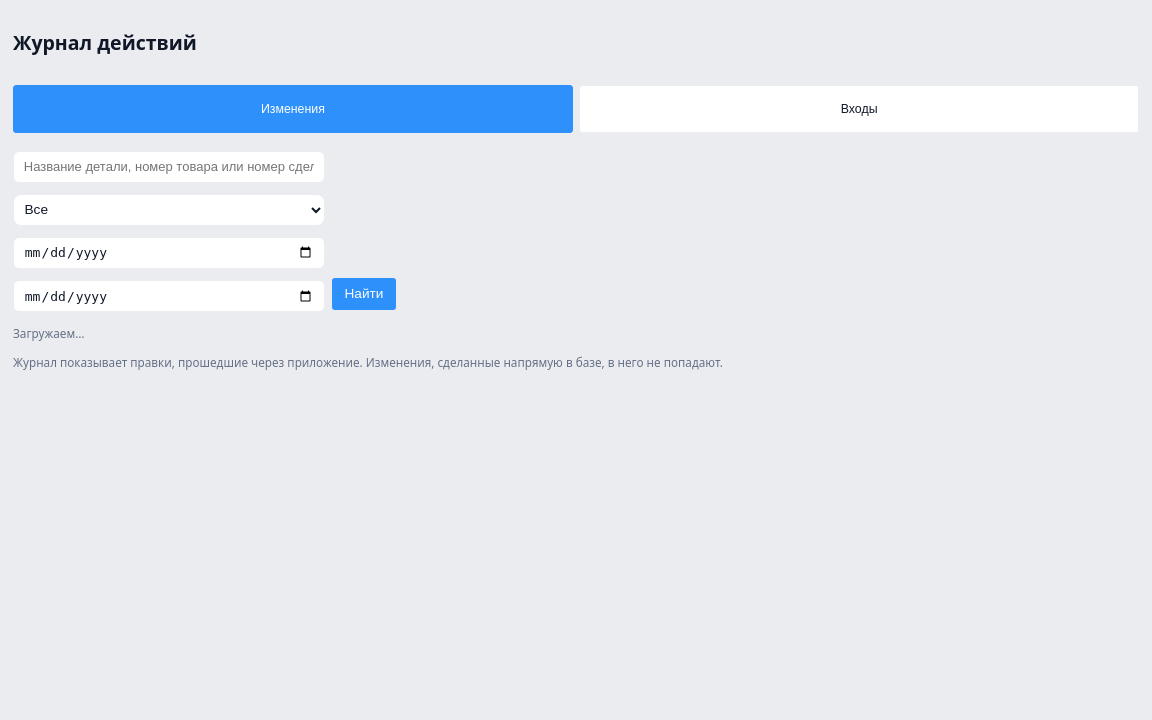
Test: журнал сессий › открывается вкладкой «Входы» на экране журнала
Click the button "Входы" at (859, 109), box [579,85,1139,133]
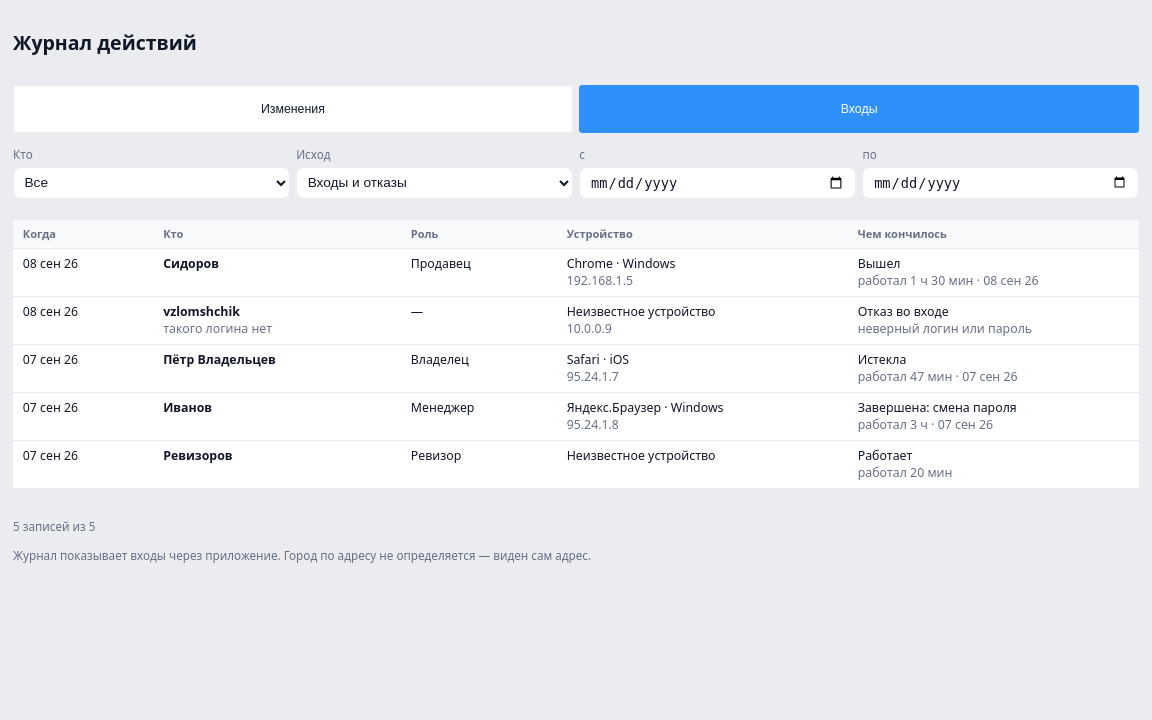
Expected: the text "Сидоров" is shown, [163,255,219,272]
Expected: the table is shown, [13,220,1139,489]
Expected: the text "Chrome · Windows" is shown, [567,255,675,272]
